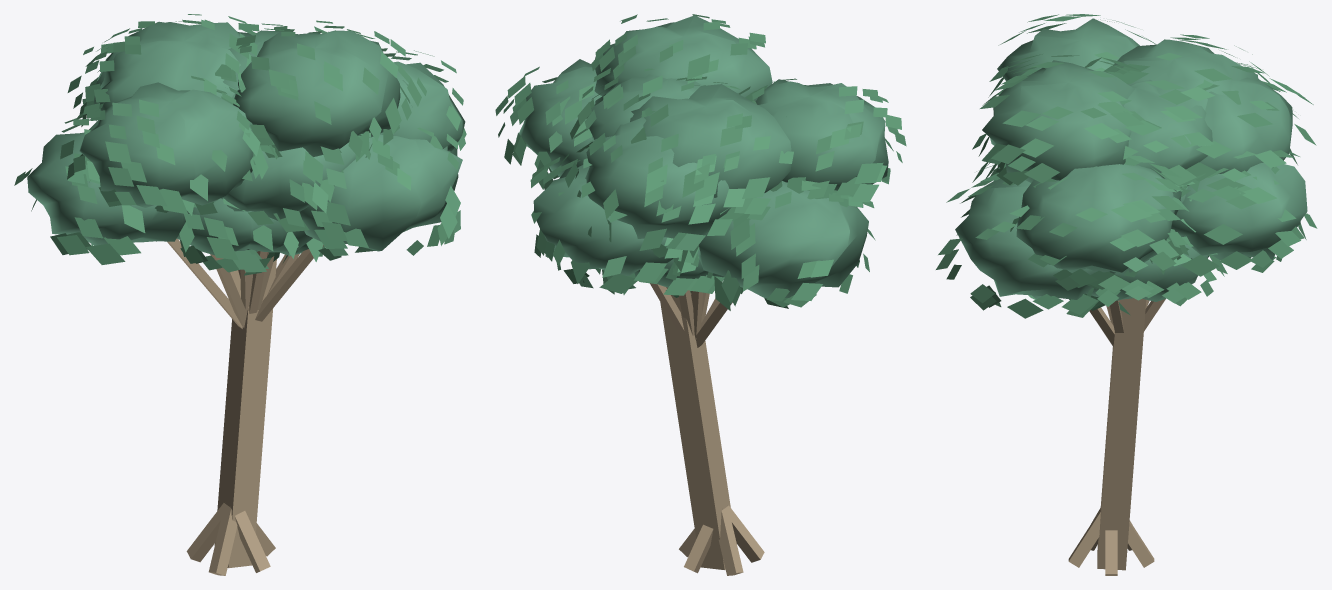
Rendered from linden_lean.glb.
3 renders of one model, left to right at view 1: azimuth 30°, elevation 25°; view 2: azimuth 150°, elevation 25°; view 3: azimuth 270°, elevation 25°, orthographic. The views are drawn at different scales.
Visible parts, largest first — view 1: SourceMesh_00032, SourceMesh_00030, SourceMesh_00028, SourceMesh_00022, SourceMesh_00000, SourceMesh_00031, SourceMesh_00023, SourceMesh_00025, SourceMesh_00027, SourceMesh_00020, SourceMesh_00003, SourceMesh_00009 (+5 smaller); view 2: SourceMesh_00032, SourceMesh_00023, SourceMesh_00031, SourceMesh_00000, SourceMesh_00028, SourceMesh_00026, SourceMesh_00030, SourceMesh_00021, SourceMesh_00027, SourceMesh_00029, SourceMesh_00004, SourceMesh_00003 (+2 smaller); view 3: SourceMesh_00032, SourceMesh_00027, SourceMesh_00030, SourceMesh_00000, SourceMesh_00021, SourceMesh_00022, SourceMesh_00026, SourceMesh_00028, SourceMesh_00031, SourceMesh_00029, SourceMesh_00019, SourceMesh_00002 (+2 smaller).
Boxes of the visible parts, x1,y1,x2,y2 form: SourceMesh_00032: (14,14,466,275); SourceMesh_00030: (233,30,400,156); SourceMesh_00028: (79,82,253,207); SourceMesh_00022: (299,134,462,251); SourceMesh_00000: (214,259,276,568); SourceMesh_00031: (93,22,245,110); SourceMesh_00023: (27,120,188,245); SourceMesh_00025: (220,142,355,220); SourceMesh_00027: (380,61,465,151); SourceMesh_00020: (177,198,312,255); SourceMesh_00003: (208,503,237,575); SourceMesh_00009: (255,245,323,321); SourceMesh_00032: (495,14,906,310); SourceMesh_00023: (697,181,868,298); SourceMesh_00031: (630,84,791,197); SourceMesh_00000: (660,287,730,569); SourceMesh_00028: (755,79,888,190); SourceMesh_00026: (585,117,731,238); SourceMesh_00030: (594,15,772,101); SourceMesh_00021: (533,165,672,275); SourceMesh_00027: (516,59,601,177); SourceMesh_00029: (586,74,703,141); SourceMesh_00004: (718,510,743,575); SourceMesh_00003: (723,505,764,562); SourceMesh_00032: (936,14,1317,318); SourceMesh_00027: (1016,164,1181,274); SourceMesh_00030: (982,60,1134,182); SourceMesh_00000: (1097,298,1146,570); SourceMesh_00021: (1171,163,1307,260); SourceMesh_00022: (955,178,1115,299); SourceMesh_00026: (1187,77,1292,185); SourceMesh_00028: (997,18,1139,81); SourceMesh_00031: (1113,39,1258,110); SourceMesh_00029: (1124,80,1212,187); SourceMesh_00019: (1085,244,1208,301); SourceMesh_00002: (1068,509,1100,567).
Bounding box in the file's own units: 3.22 × 4.2 × 2.8.
